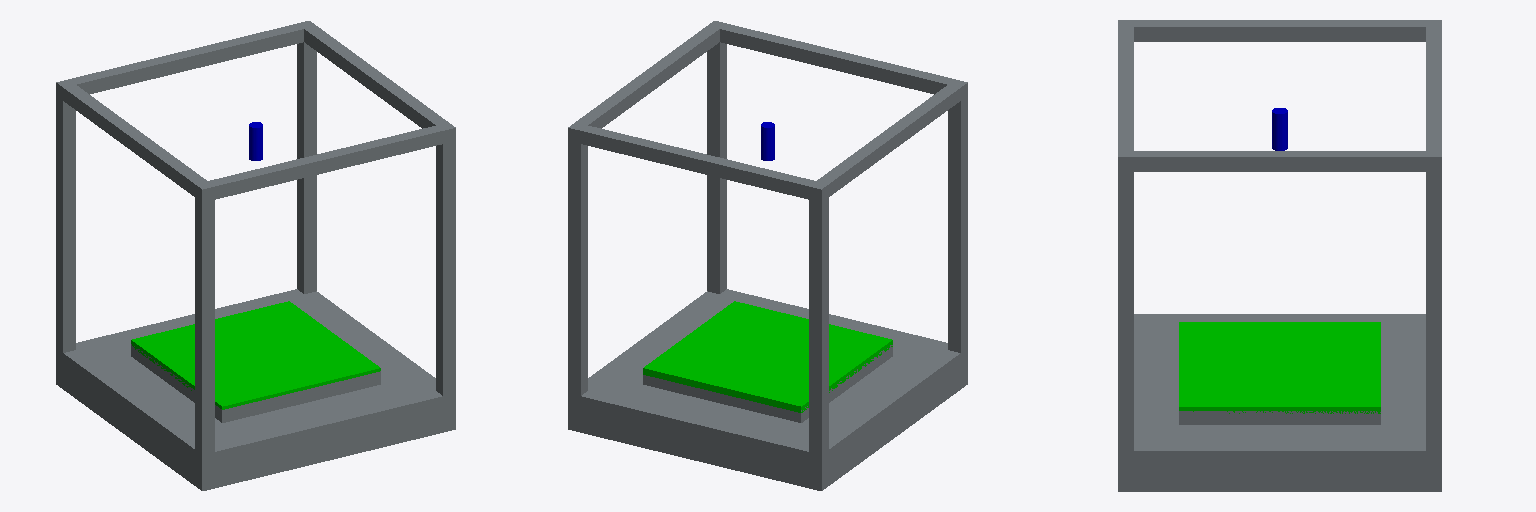
robot.urdf — printer3D:
<?xml version="1.0"?>
<robot name="printer3D">

  <material name="blue">
      <color rgba="0 0 0.8 1"/>
    </material>

  <material name="green">
      <color rgba="0 0.8 0 1"/>
    </material>    
    
  <link name="base_link">
    <visual>
      <origin xyz="0 0 0" rpy="-1.57075 0 0" />
        <geometry>
          <mesh filename="package://move_printer/urdf/printer.dae"/>
        </geometry>
    </visual>
  </link>

  <link name="world">
  </link>
  
  <link name="link_x">
  </link>
  <link name="link_y">
  </link>
  
  <link name="extruder_link">
    <visual>
      <origin xyz="0 0 0.35" rpy="0 0 0" />
        <geometry>
          <cylinder length="0.05" radius="0.01"/>
        </geometry>
        <material name="blue"/>
    </visual>
  </link>

  <link name="plateau">
    <visual>
      <origin xyz="0 0 0.025" rpy="0 0 0" />
        <geometry>
          <box size="0.25 0.25 0.01"/>
	  </geometry>
        <material name="green"/>
    </visual>
  </link>  
  
  <joint name="world_to_base" type="fixed">
    <parent link="world"/>
    <child link="base_link"/>
  </joint>
  
  <joint name="base_to_x" type="prismatic">
    <axis xyz="1 0 0"/>
    <parent link="base_link"/>
    <child link="link_x"/>
    <limit effort="1000.0" lower="-0.125" upper="0.125" velocity="0.1"/>
  </joint>

  <joint name="link_x_to_y" type="prismatic">
    <axis xyz="0 1 0"/>
    <parent link="link_x"/>
    <child link="link_y"/>
    <limit effort="1000.0" lower="-0.125" upper="0.125" velocity="0.1"/>
  </joint>
  
  <joint name="link_y_to_extruder" type="prismatic">
    <axis xyz="0 0 1"/>
    <parent link="link_y"/>
    <child link="extruder_link"/>
    <limit effort="1000.0" lower="-0.35" upper="0" velocity="0.1"/>
  </joint>
 
  
  <joint name="base_to_plateau" type="fixed">
    <axis xyz="0 0 1"/>
    <parent link="base_link"/>
    <child link="plateau"/>
  </joint>
  
</robot>

--- Render facts (derived) ---
Views: 3 orthographic renders of the robot side by side, from view 1: azimuth 30°, elevation 25°; view 2: azimuth 150°, elevation 25°; view 3: azimuth 270°, elevation 25°.
Robot: printer3D — 6 links, 5 joints (3 prismatic, 2 fixed); root link world; default pose: every joint at zero.
Links seen in each view (by area): view 1: base_link, plateau, extruder_link; view 2: base_link, plateau, extruder_link; view 3: base_link, plateau, extruder_link.
Boxes of the visible links, bbox=[...] form: base_link: bbox=[56, 21, 455, 490]; plateau: bbox=[131, 301, 380, 409]; extruder_link: bbox=[249, 122, 262, 160]; base_link: bbox=[568, 21, 967, 490]; plateau: bbox=[643, 301, 892, 412]; extruder_link: bbox=[761, 122, 774, 160]; base_link: bbox=[1118, 20, 1441, 491]; plateau: bbox=[1179, 322, 1380, 413]; extruder_link: bbox=[1272, 108, 1287, 150].
Size in the robot's own frame: 0.4 by 0.4 by 0.455 metres.
Meshes: 1 distinct files referenced, 1 mesh visuals loaded (1 Collada DAE).